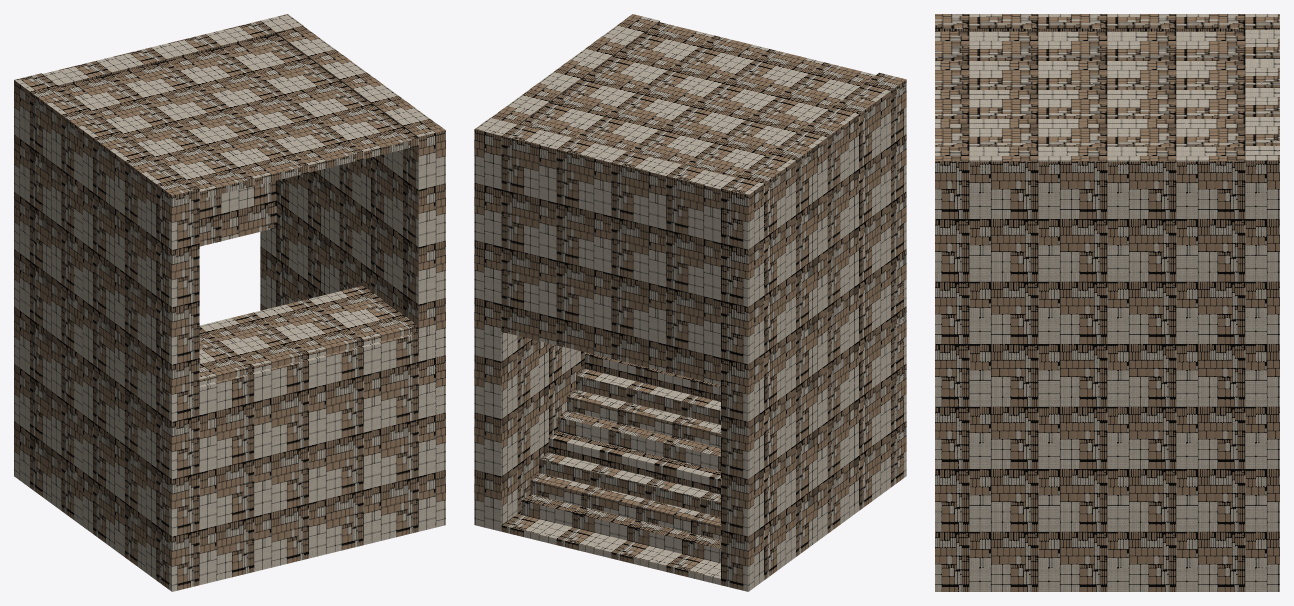
File: dungeon_climb_stair.glb
The picture shows the model from 3 angles, left to right: view 1: azimuth 30°, elevation 25°; view 2: azimuth 150°, elevation 25°; view 3: azimuth 270°, elevation 25°; orthographic projection. The views are drawn at different scales.
Parts seen in each view (by area): view 1: dungeon_climb_stair; view 2: dungeon_climb_stair; view 3: dungeon_climb_stair.
Boxes of the visible parts, x1=… form: dungeon_climb_stair: x1=14, y1=14, x2=445, y2=591; dungeon_climb_stair: x1=474, y1=14, x2=906, y2=591; dungeon_climb_stair: x1=935, y1=14, x2=1279, y2=591.
Size of the model in its own units: 5 by 6.91 by 5.
Materials: 1 (1 with a texture image).
